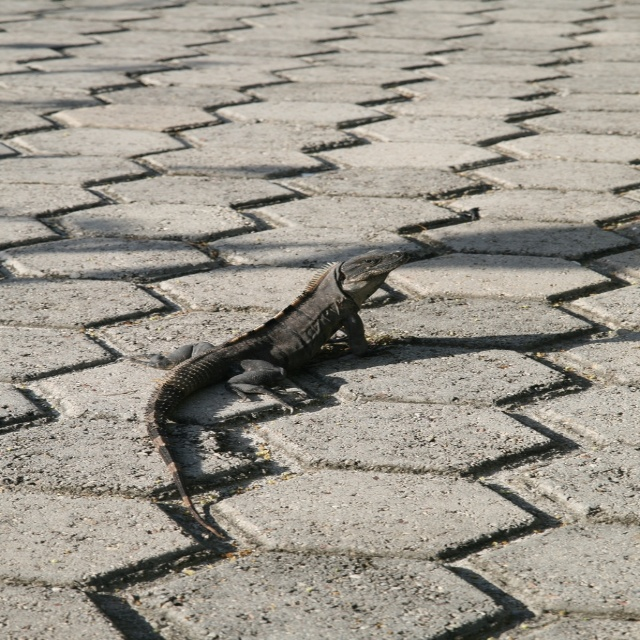Lizard: (143, 250, 404, 536)
